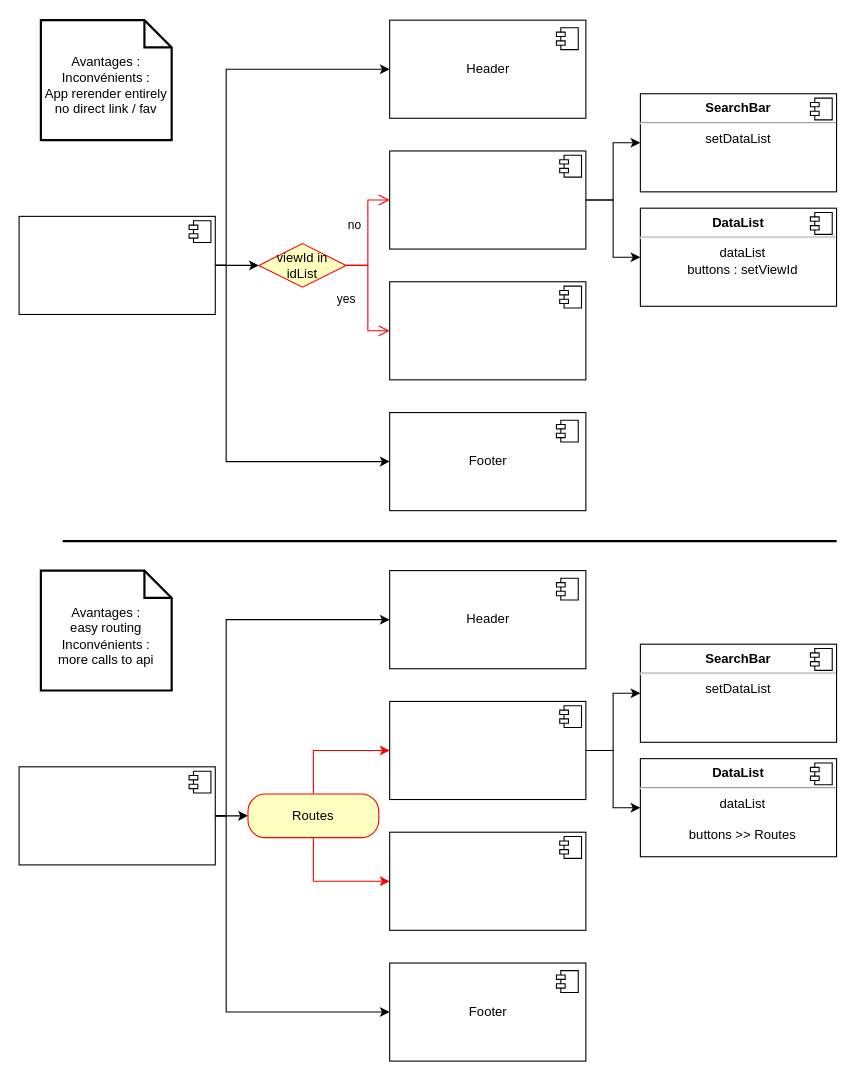
The diagram is 857 pixels wide and 1080 high, and some of its shapes have lost their labels. The shapes that lost their labels are listed below. From the top down, each one's centre as x and y in pixels, then its label:
point (487, 199): Home
point (116, 264): App + viewId : useState + dataList : useState + idList : useMemo [dataList]
point (487, 330): Detail dataList [id] return button : setViewId
point (487, 750): Home + dataList : useState
point (116, 815): App
point (487, 880): Detail + data : useState return button >> Routes
